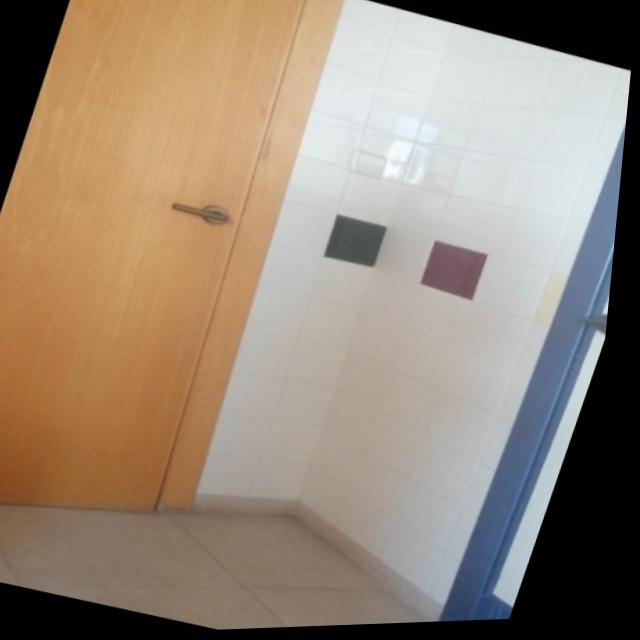door_handle: (170, 197, 239, 227)
